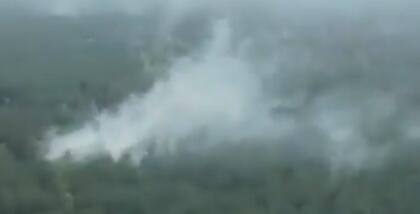yanwu: (39, 3, 420, 174)
